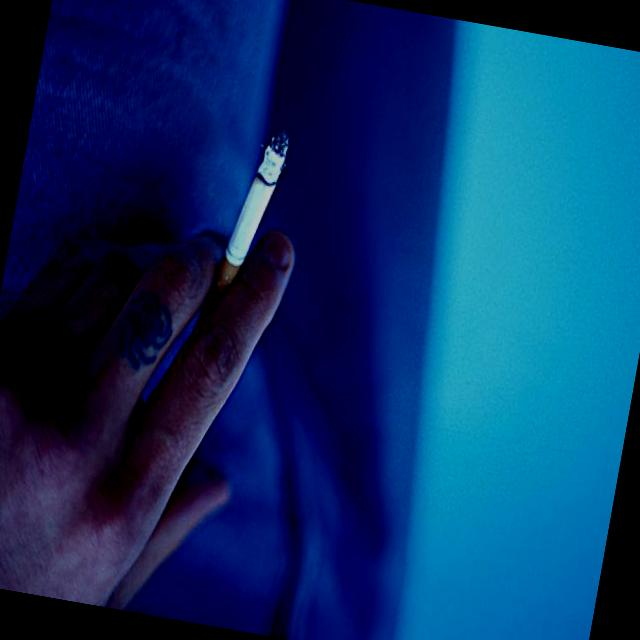smoke: (182, 120, 294, 376)
